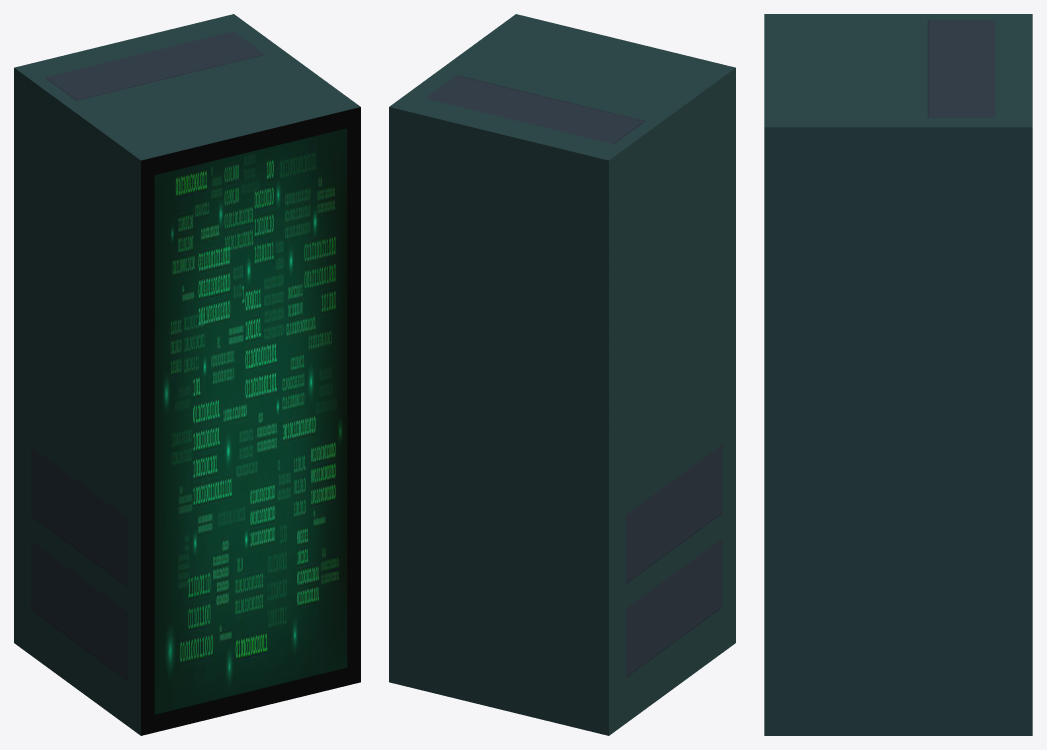
File: Database System 2.fbx
3 renders of one model, left to right at view 1: azimuth 30°, elevation 25°; view 2: azimuth 150°, elevation 25°; view 3: azimuth 270°, elevation 25°, orthographic. The views are drawn at different scales.
Parts seen in each view (by area): view 1: pCube2; view 2: pCube2; view 3: pCube2.
Boxes of the visible parts, left/top/right/bottom form: pCube2: left=14, top=14, right=360, bottom=735; pCube2: left=389, top=14, right=735, bottom=735; pCube2: left=764, top=14, right=1032, bottom=735.
Bounding box in the file's own units: 8 × 20 × 8.
Materials: 1 (1 with a texture image).
